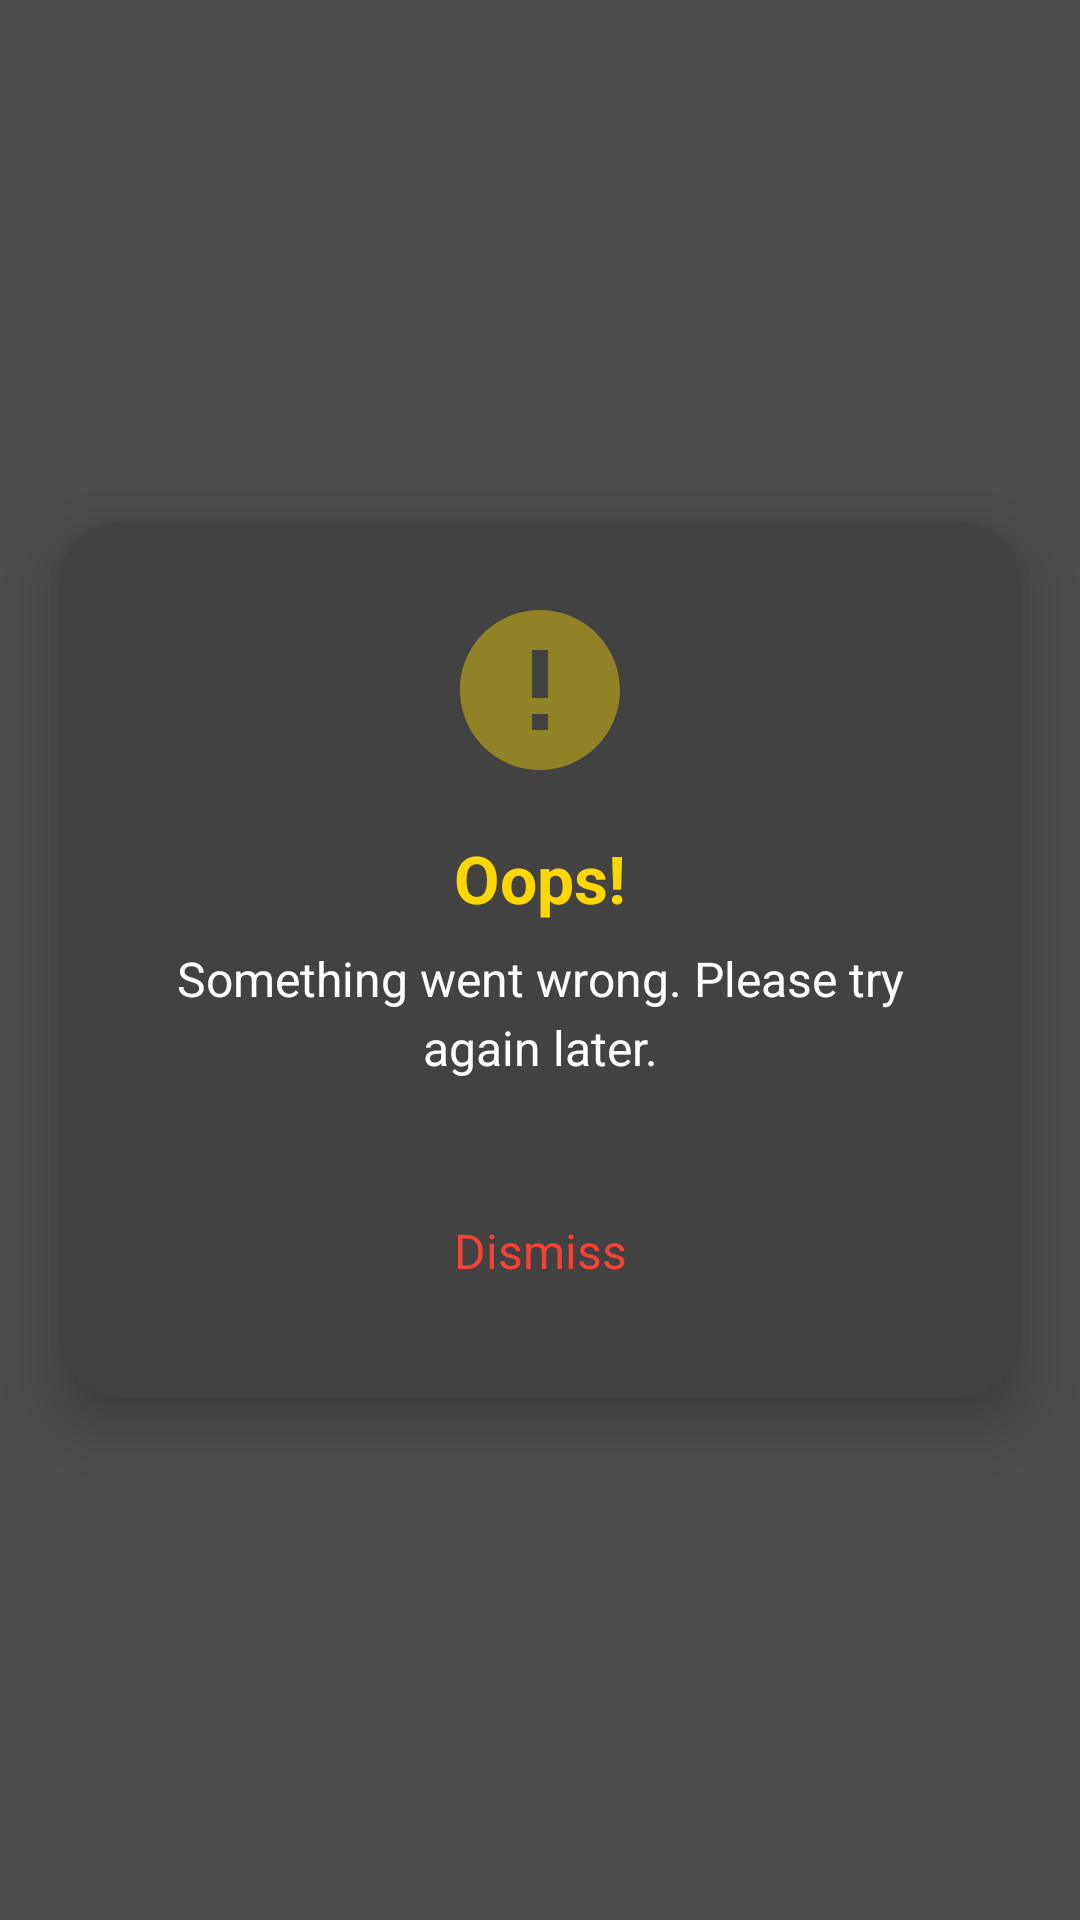

Screen size 1080 × 1920. Icon name, then its center in pixels as (x,y):
error: (540,690)
